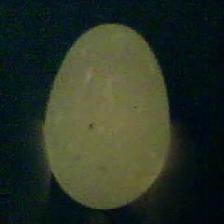infertile: (40, 17, 173, 213)
